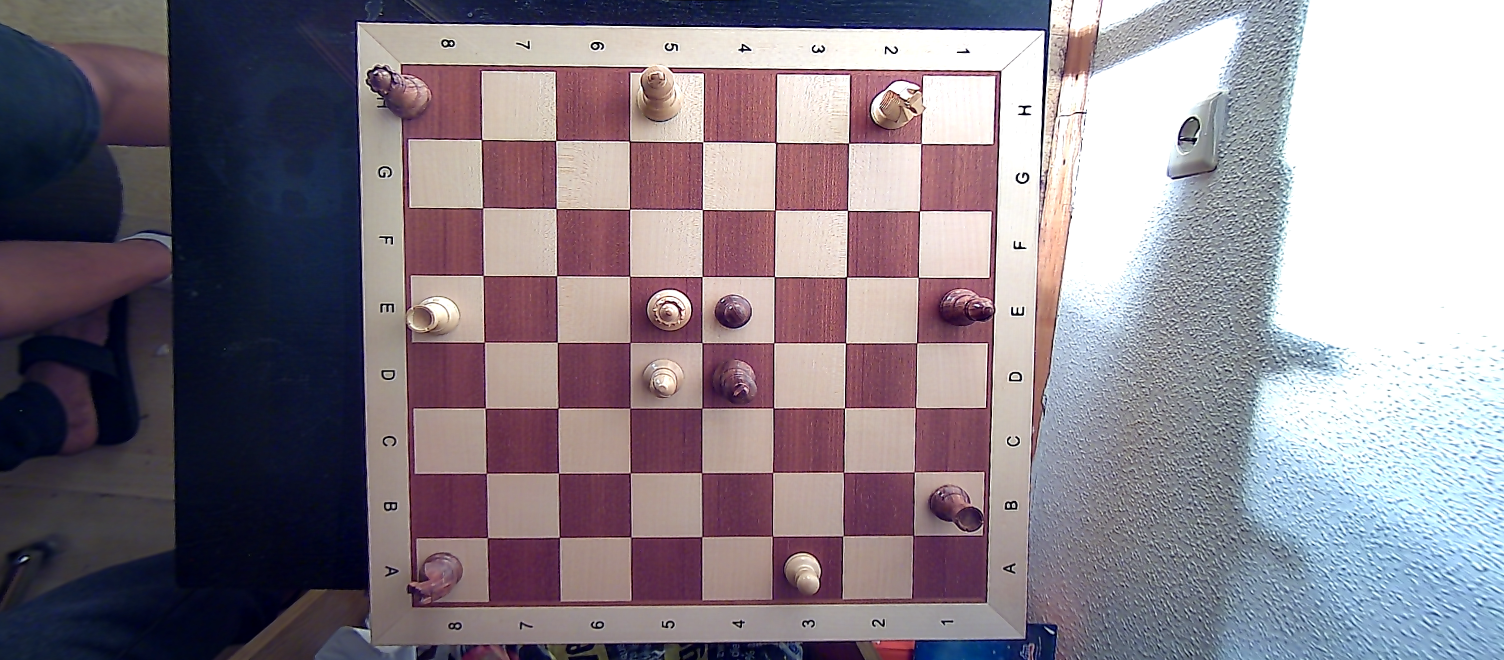black-bishop: (933, 282, 1001, 331)
black-king: (709, 354, 762, 405)
black-knight: (404, 550, 466, 597)
black-pawn: (710, 288, 760, 335)
black-queen: (364, 60, 433, 123)
black-rook: (925, 481, 984, 536)
white-bishop: (640, 354, 685, 404)
white-king: (632, 62, 686, 123)
white-knight: (864, 76, 924, 133)
white-pawn: (780, 549, 825, 598)
white-queen: (642, 284, 696, 333)
white-rook: (404, 289, 462, 339)
